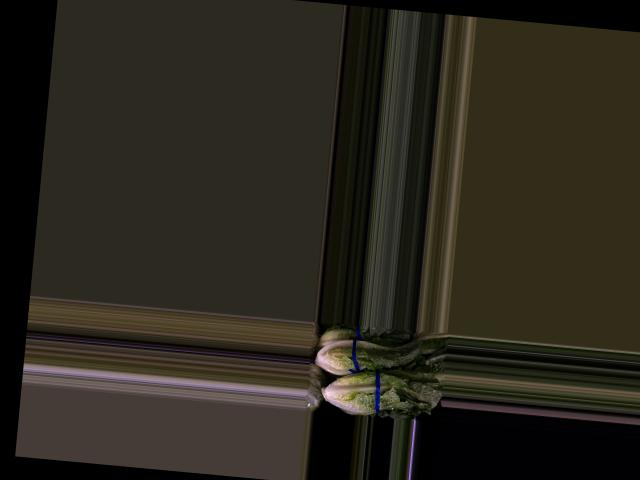lettuce: (312, 327, 424, 383)
